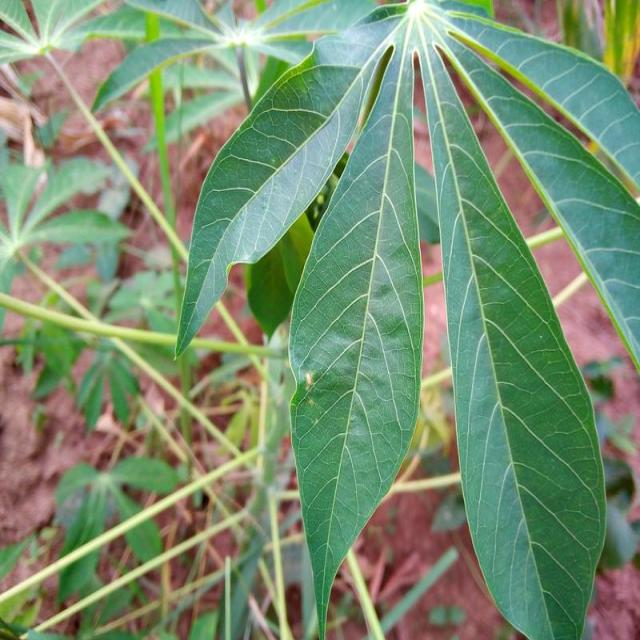cassava leaf: (175, 0, 640, 638), (419, 28, 609, 638), (288, 17, 427, 638)
